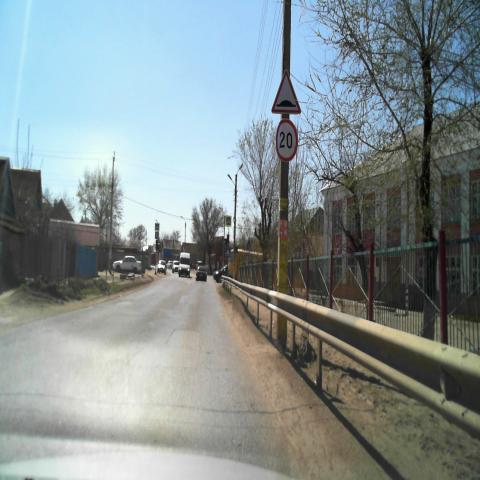1_17: (272, 69, 300, 115)
